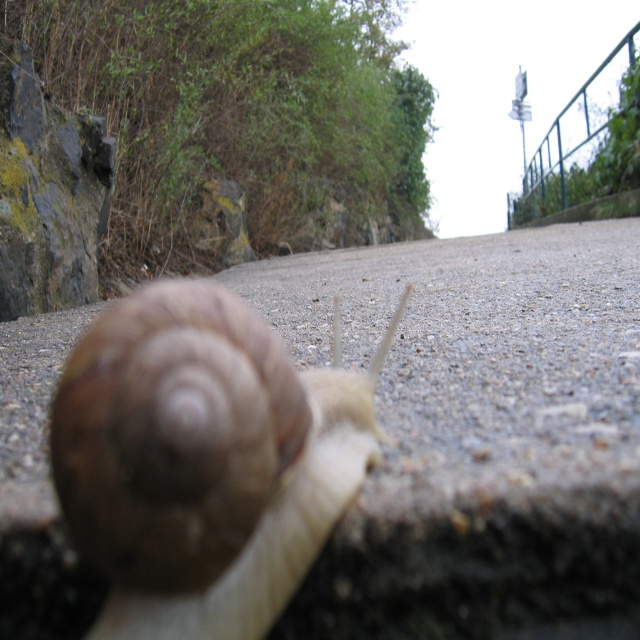Snail: (48, 272, 416, 639)
